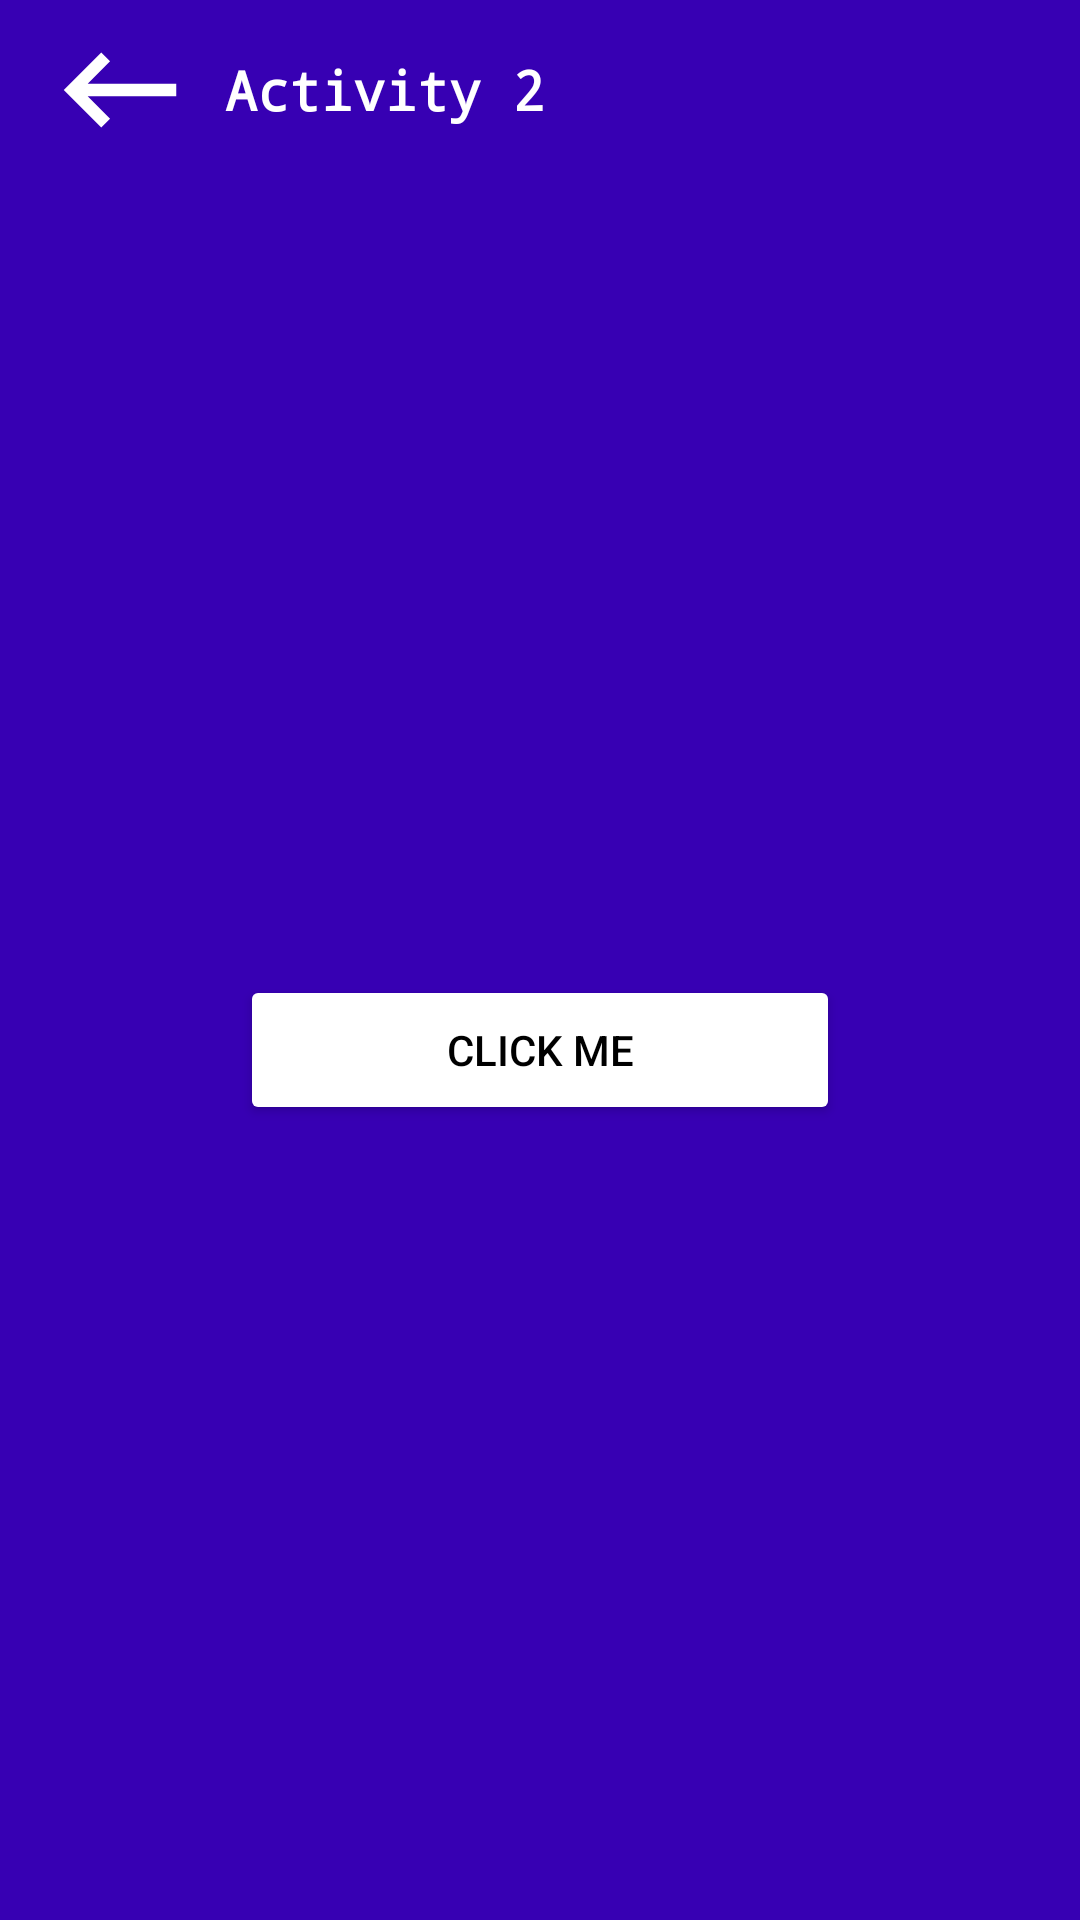

Where to tap for icons on this 1080px×1920px app screen, as [x,y]:
back: [120,90]
